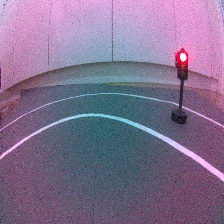red: (168, 47, 195, 126)
